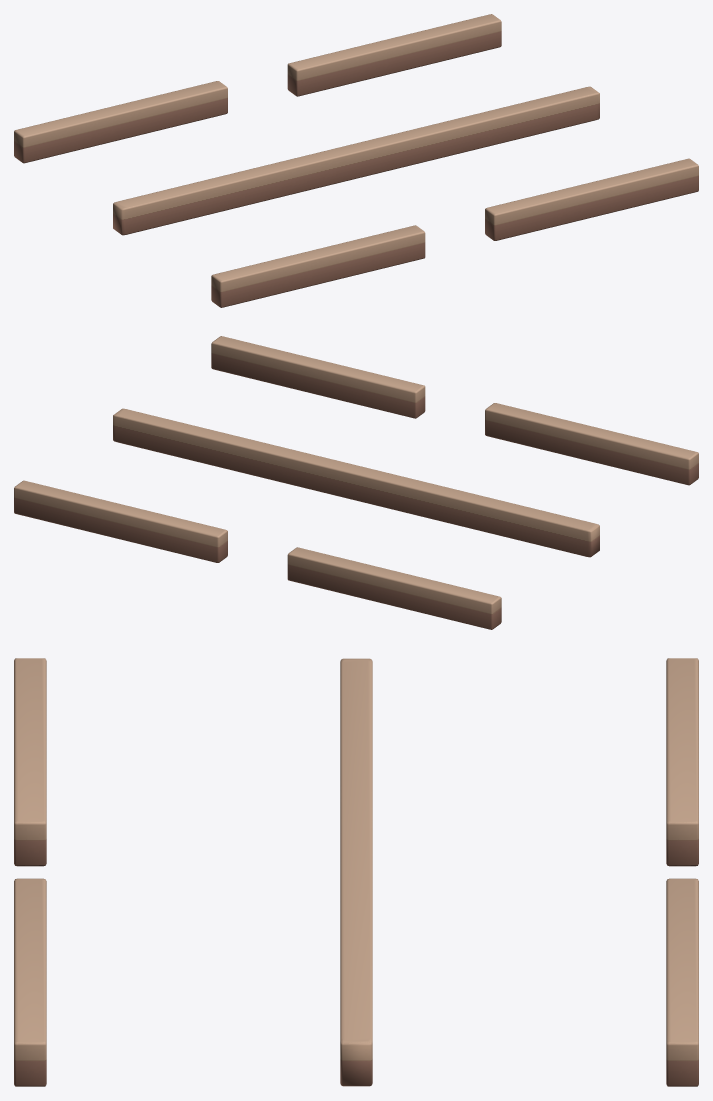
File: Props.fbx
The picture shows the model from 3 angles, top to bottom: view 1: azimuth 30°, elevation 25°; view 2: azimuth 150°, elevation 25°; view 3: azimuth 270°, elevation 25°; orthographic projection. The views are drawn at different scales.
Parts seen in each view (by area): view 1: Box20-3_1, Box20-3_1 (2), Box20-3_1 (3), Box20-3_1 (1), Box20-3_1 (4); view 2: Box20-3_1, Box20-3_1 (1), Box20-3_1 (4), Box20-3_1 (2), Box20-3_1 (3); view 3: Box20-3_1, Box20-3_1 (1), Box20-3_1 (2), Box20-3_1 (3), Box20-3_1 (4).
Boxes of the visible parts, box(x1,y1,x2,y2) form: Box20-3_1: box(113, 86, 599, 235); Box20-3_1 (2): box(211, 225, 425, 307); Box20-3_1 (3): box(287, 14, 501, 96); Box20-3_1 (1): box(485, 158, 698, 240); Box20-3_1 (4): box(14, 81, 227, 163); Box20-3_1: box(113, 408, 599, 557); Box20-3_1 (1): box(211, 336, 425, 418); Box20-3_1 (4): box(287, 547, 501, 629); Box20-3_1 (2): box(485, 403, 698, 485); Box20-3_1 (3): box(14, 480, 227, 562); Box20-3_1: box(340, 658, 372, 1086); Box20-3_1 (1): box(14, 878, 46, 1086); Box20-3_1 (2): box(14, 658, 46, 866); Box20-3_1 (3): box(666, 878, 698, 1086); Box20-3_1 (4): box(666, 658, 698, 866).
Bounding box in the file's own units: 28 × 1.5 × 21.
1 material, 1 textured.
